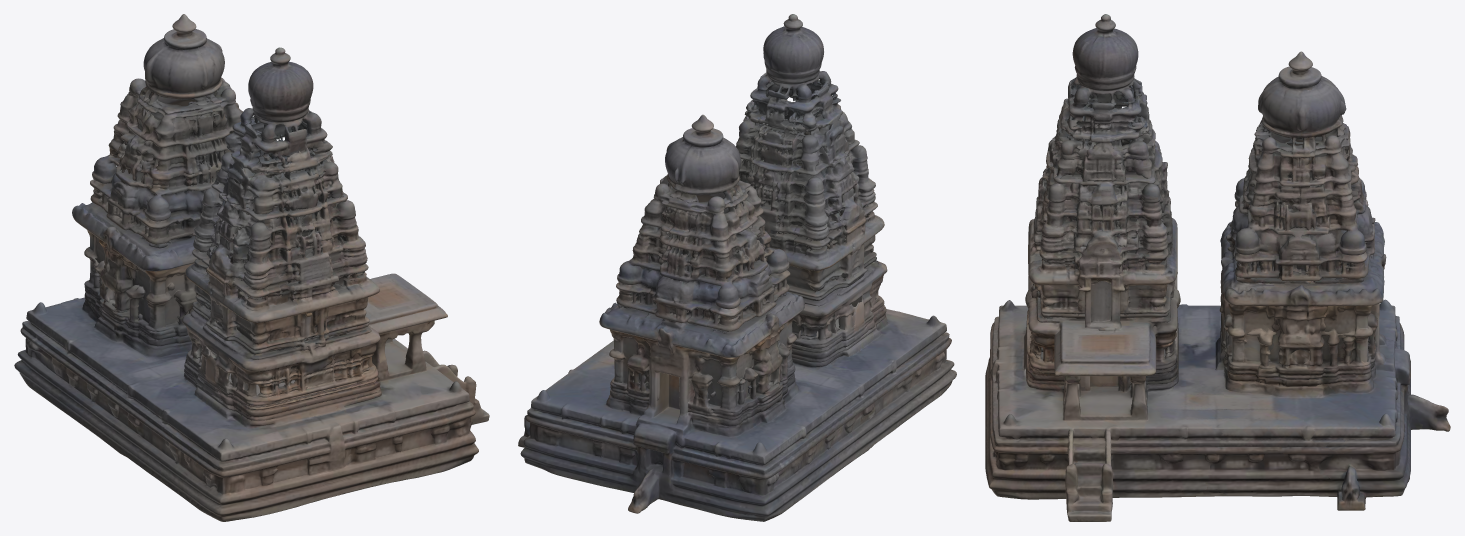
The model's file is mahabalipuram.glb.
3 renders of one model, left to right at view 1: azimuth 30°, elevation 25°; view 2: azimuth 150°, elevation 25°; view 3: azimuth 270°, elevation 25°, orthographic. The views are drawn at different scales.
Visible parts, largest first — view 1: tripo_node_11bd1e57-fca4-4c9c-ba78-411a7c8f9c52; view 2: tripo_node_11bd1e57-fca4-4c9c-ba78-411a7c8f9c52; view 3: tripo_node_11bd1e57-fca4-4c9c-ba78-411a7c8f9c52.
Part boxes in pixels (x1,y1,x2,y2): tripo_node_11bd1e57-fca4-4c9c-ba78-411a7c8f9c52: (14, 14, 489, 521); tripo_node_11bd1e57-fca4-4c9c-ba78-411a7c8f9c52: (518, 14, 956, 521); tripo_node_11bd1e57-fca4-4c9c-ba78-411a7c8f9c52: (985, 14, 1450, 521).
Bounding box in the file's own units: 0.7874 × 0.9823 × 1.
Materials: 1 (1 with a texture image).
